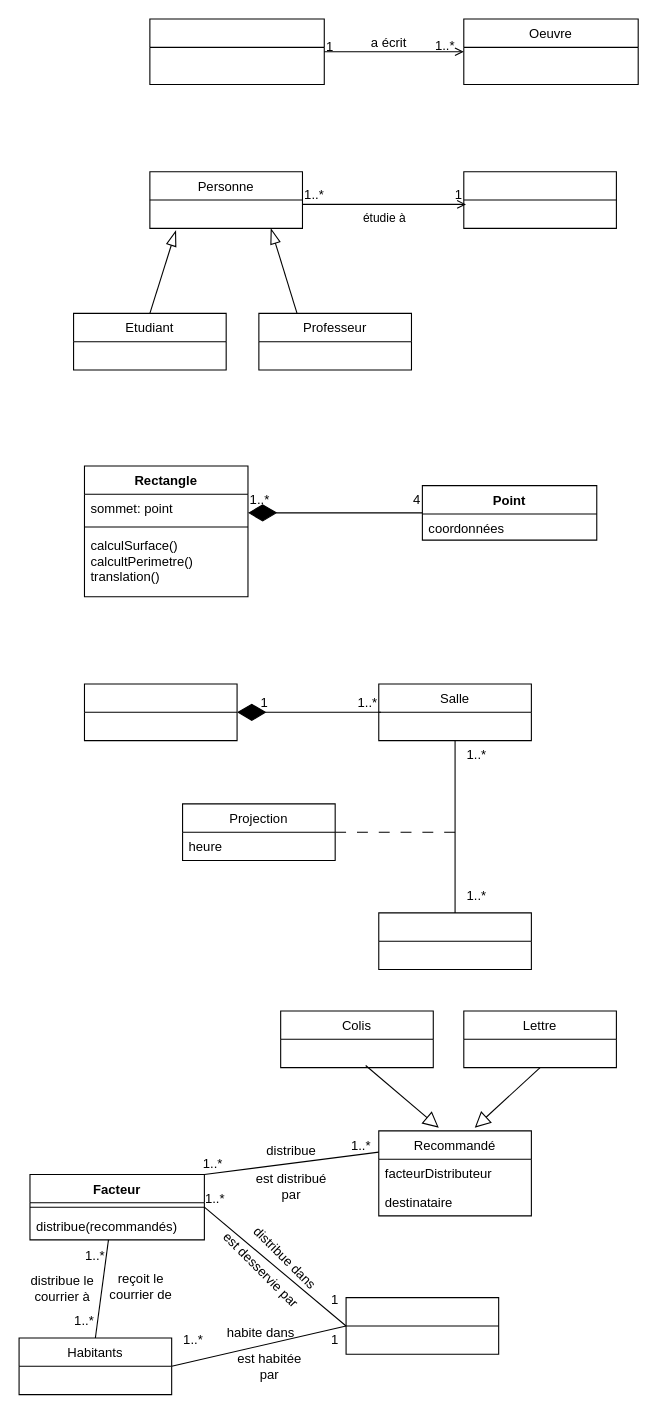
The diagram is 657 pixels wide and 1414 high, and some of its shapes have lost their labels. Here are the shapes that lost their labels. From the top down, the centre of each, then its label:
At [236,51]: "Ecrivain".
At [539,199]: "Université".
At [160,712]: "Cinéma".
At [454,941]: "Film".
At [422,1325]: "Zone géographique".
